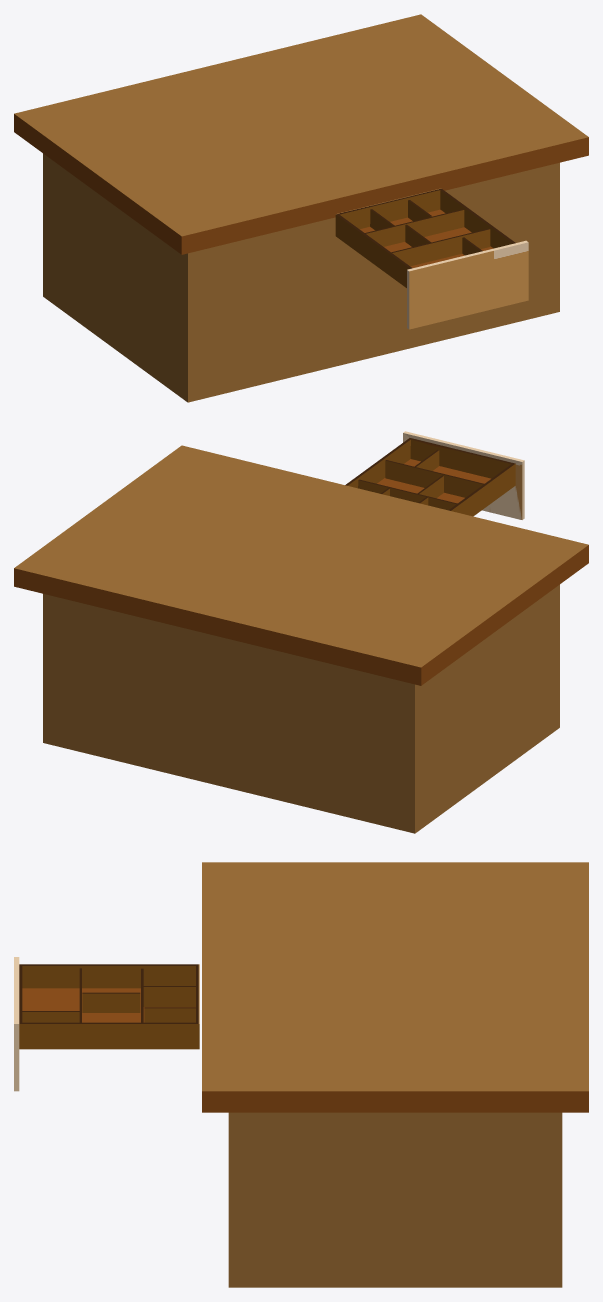
Rendered from table.fbx.
3 views of the same model, one above another, from view 1: azimuth 30°, elevation 25°; view 2: azimuth 150°, elevation 25°; view 3: azimuth 270°, elevation 25° (orthographic). The views are drawn at different scales.
Parts seen in each view (by area): view 1: table, table_open; view 2: table, table_open; view 3: table, table_open.
Part boxes in pixels (left/top/right/bottom): table: left=14, top=14, right=588, bottom=402; table_open: left=335, top=188, right=528, bottom=329; table: left=14, top=445, right=588, bottom=833; table_open: left=345, top=431, right=524, bottom=519; table: left=202, top=862, right=588, bottom=1287; table_open: left=14, top=957, right=199, bottom=1091.
Bounding box in the file's own units: 9.03 × 3.79 × 9.58.
